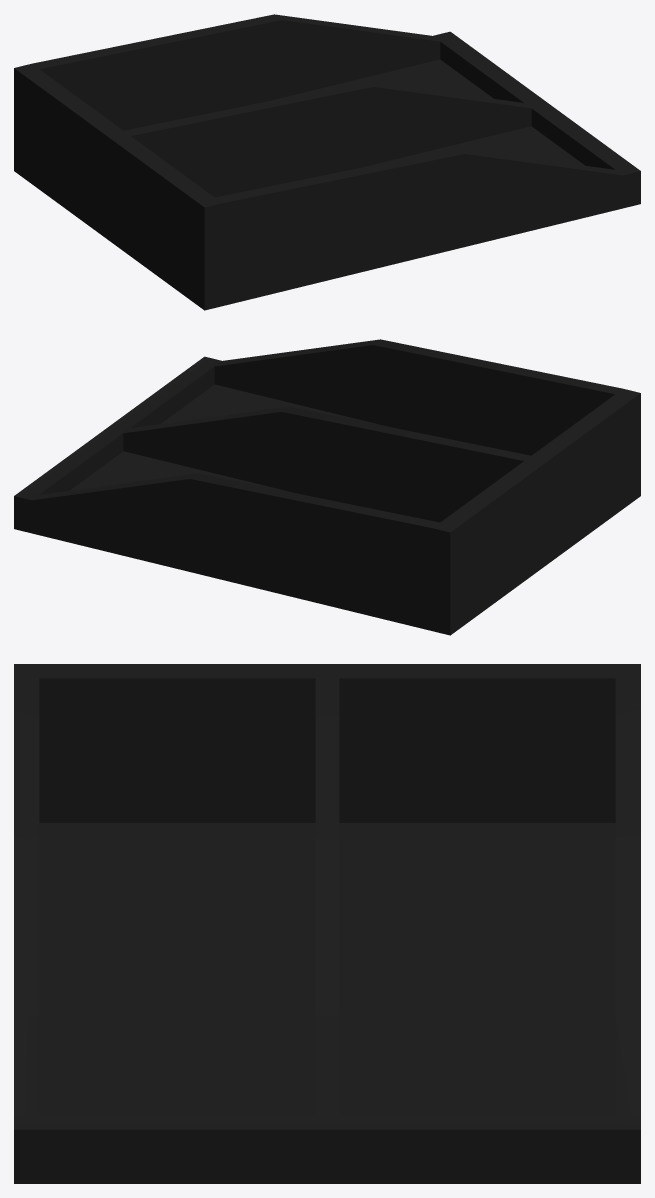
Rendered from Sugar Packet Holder 1.fbx.
3 views of the same model, one above another, from view 1: azimuth 30°, elevation 25°; view 2: azimuth 150°, elevation 25°; view 3: azimuth 270°, elevation 25° (orthographic). The views are drawn at different scales.
Parts seen in each view (by area): view 1: Sugar_PAcket_holder; view 2: Sugar_PAcket_holder; view 3: Sugar_PAcket_holder.
Boxes of the visible parts, <box> form: Sugar_PAcket_holder: <box>14,14,640,310</box>; Sugar_PAcket_holder: <box>14,339,640,635</box>; Sugar_PAcket_holder: <box>14,664,640,1183</box>.
Bounding box in the file's own units: 17.54 × 3.96 × 13.27.
Materials: 1 (1 with a texture image).
